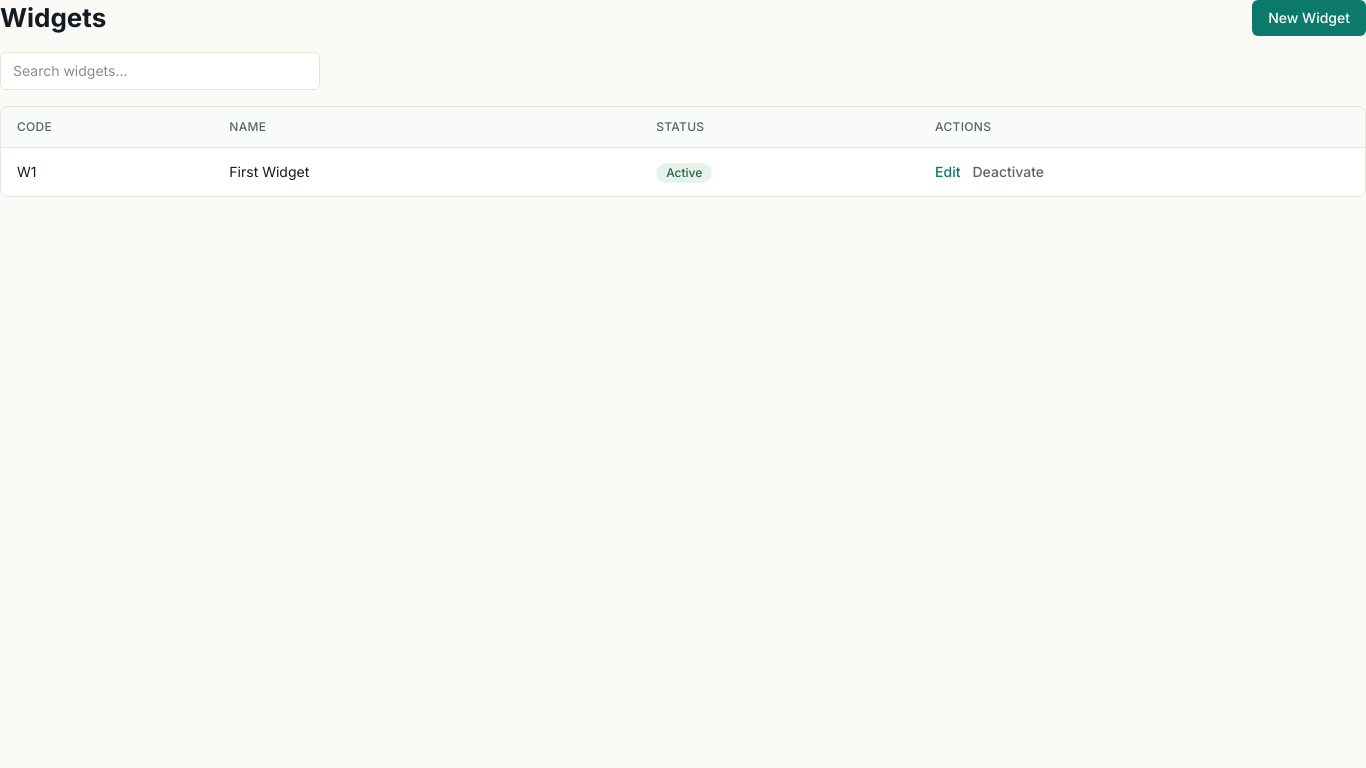
Test: AdminEntityListPage (generic Master Data CRUD engine) › edit modal omits createOnly fields
Check: the text "First Widget" is shown, box [229,162,309,182]
Click the button "Edit": (948, 172) [935,162,960,182]
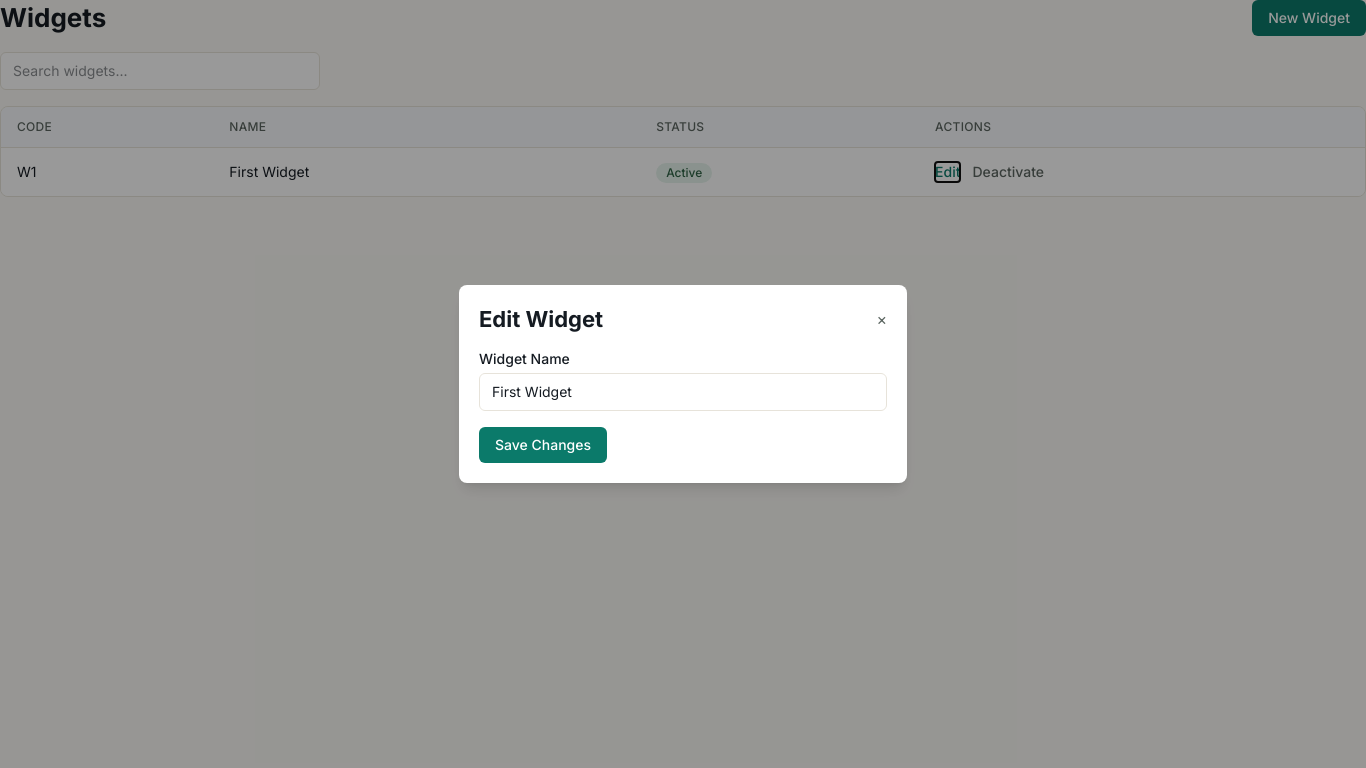
Check: the dialog "Edit Widget" is shown, box [459,285,907,483]
Check: the field labelled "Widget Name" is shown, box [479,373,887,411]
